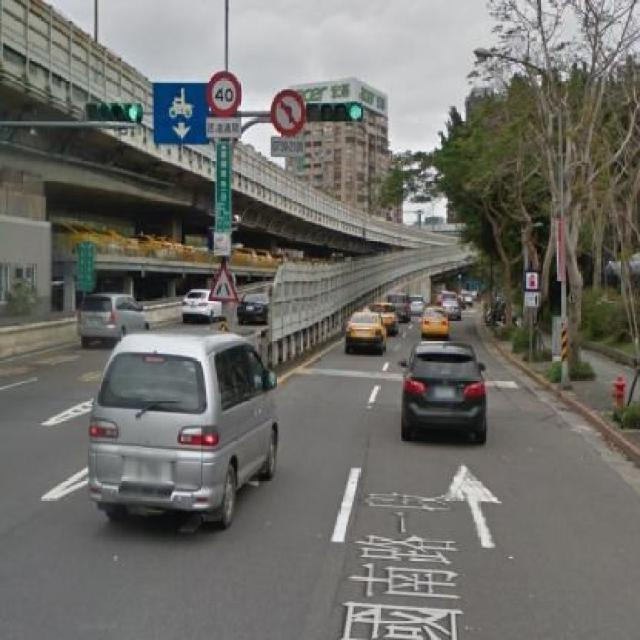forb_speed_over_40: (209, 72, 243, 116)
